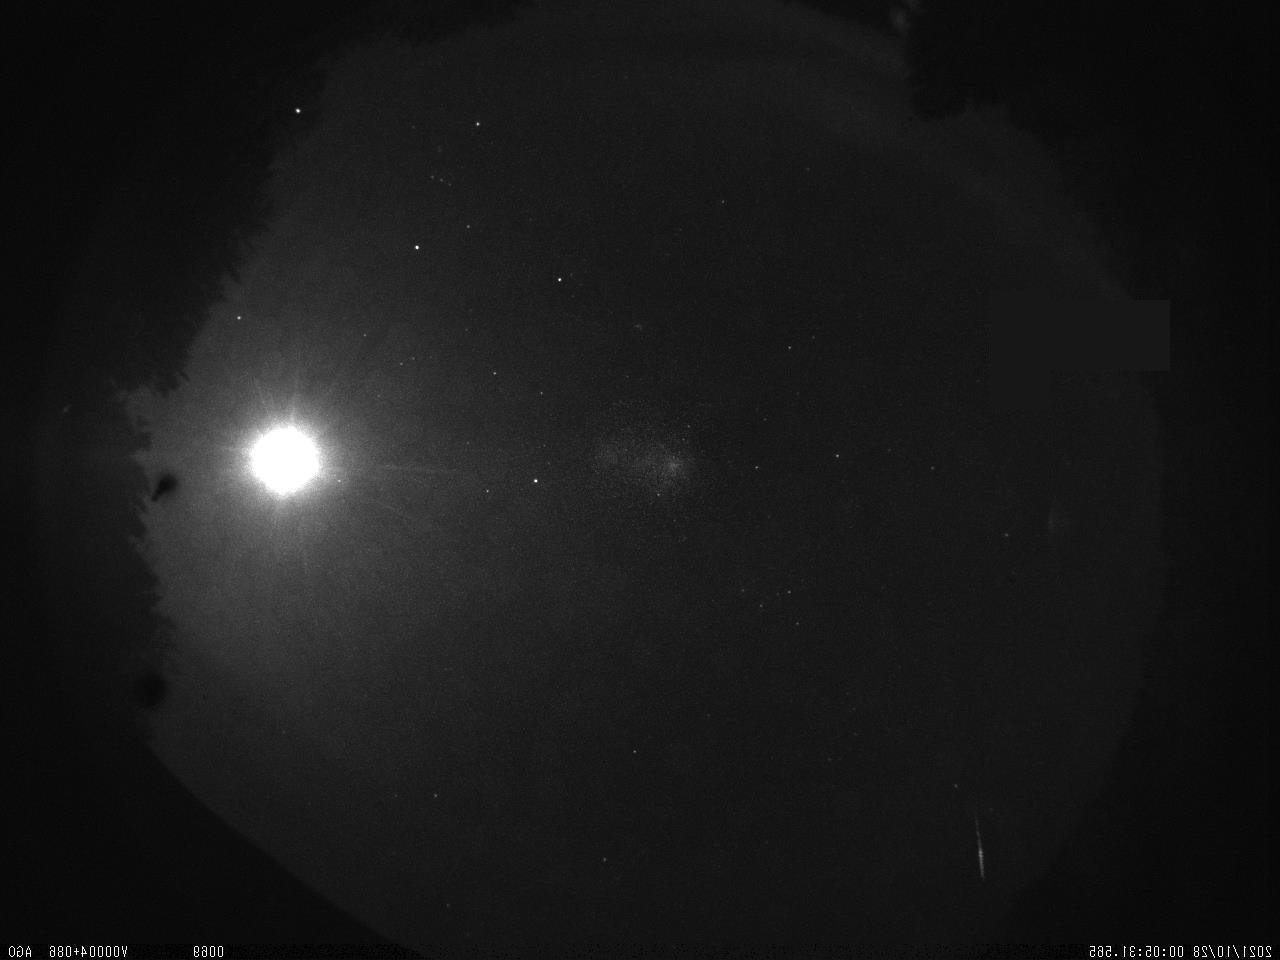meteor: (969, 817, 993, 883)
